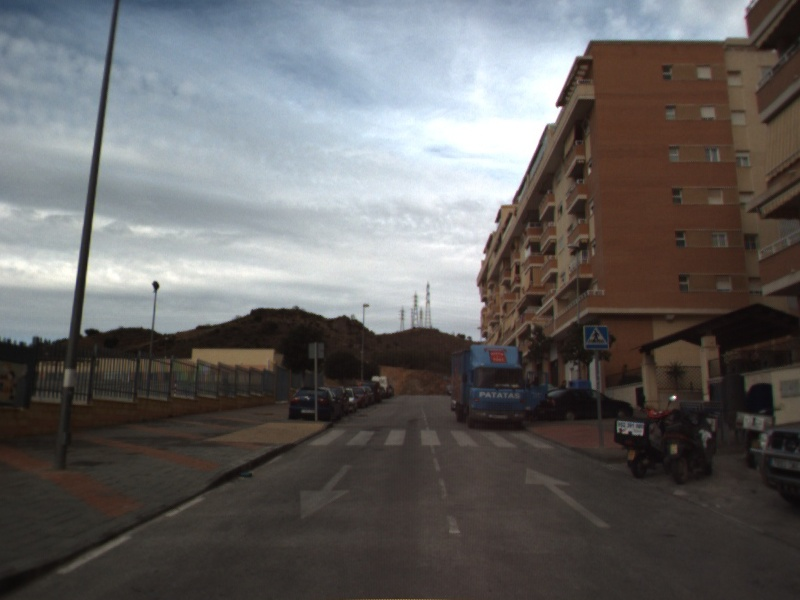STRAIGHT: (523, 465, 613, 530)
